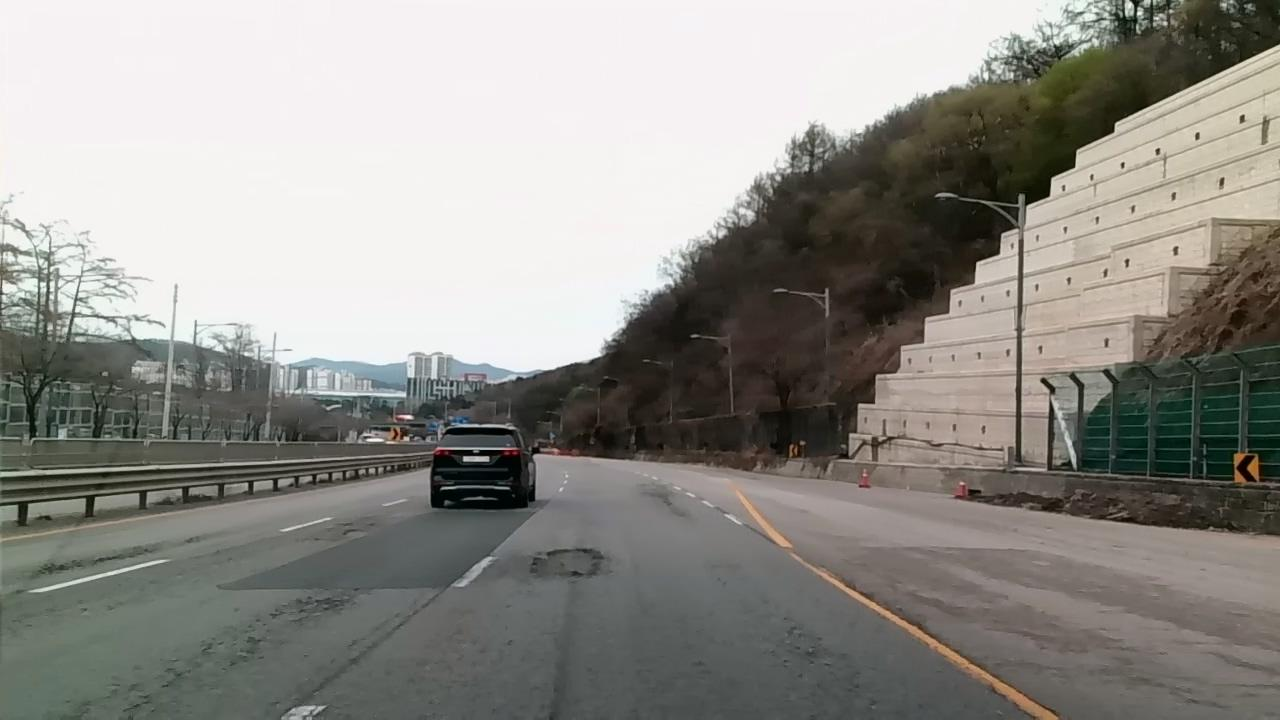erosion: (74, 643, 243, 720), (776, 616, 860, 720), (219, 586, 360, 647), (18, 548, 117, 577), (116, 532, 203, 560)
pothole: (528, 544, 607, 585), (339, 523, 368, 542)
